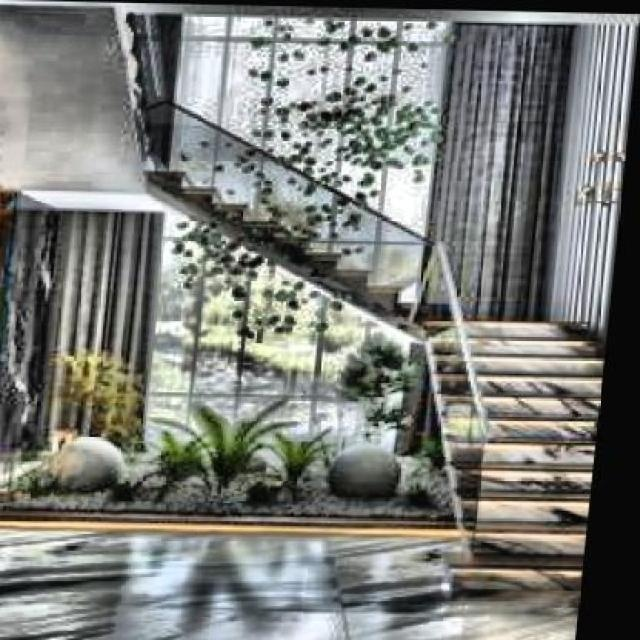stair: (418, 312, 612, 591)
